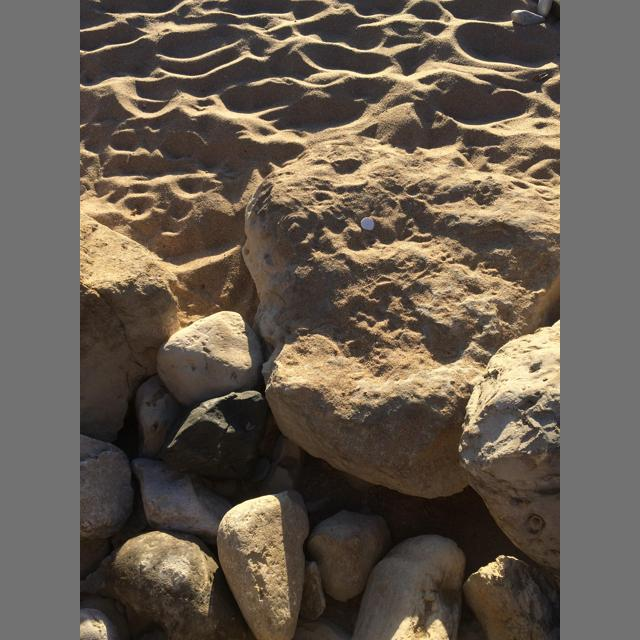litter: (360, 217, 374, 230)
